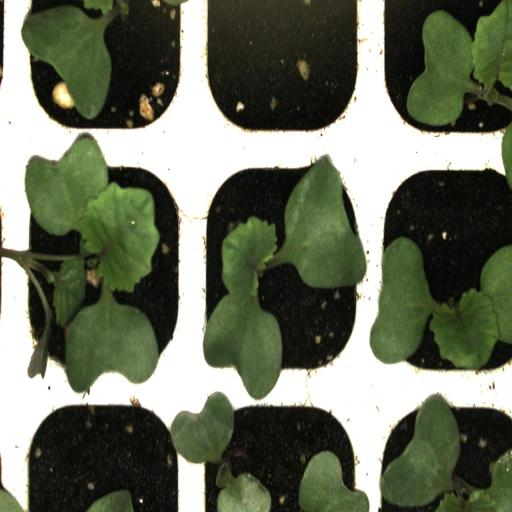noseedling: (196, 0, 368, 149)
seedling: (195, 148, 370, 389), (14, 149, 192, 385), (371, 147, 512, 390), (14, 0, 194, 143), (369, 1, 512, 150)
